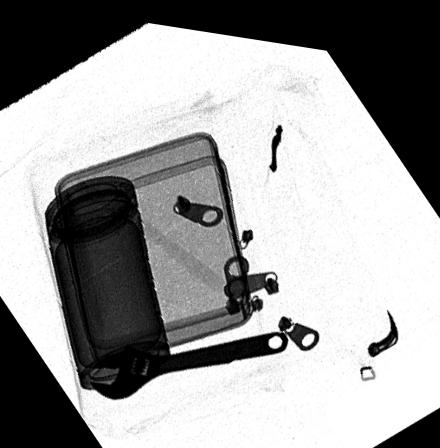Wrench: (87, 320, 287, 397)
